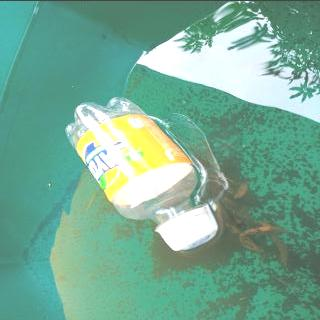bottle: (63, 95, 221, 252)
